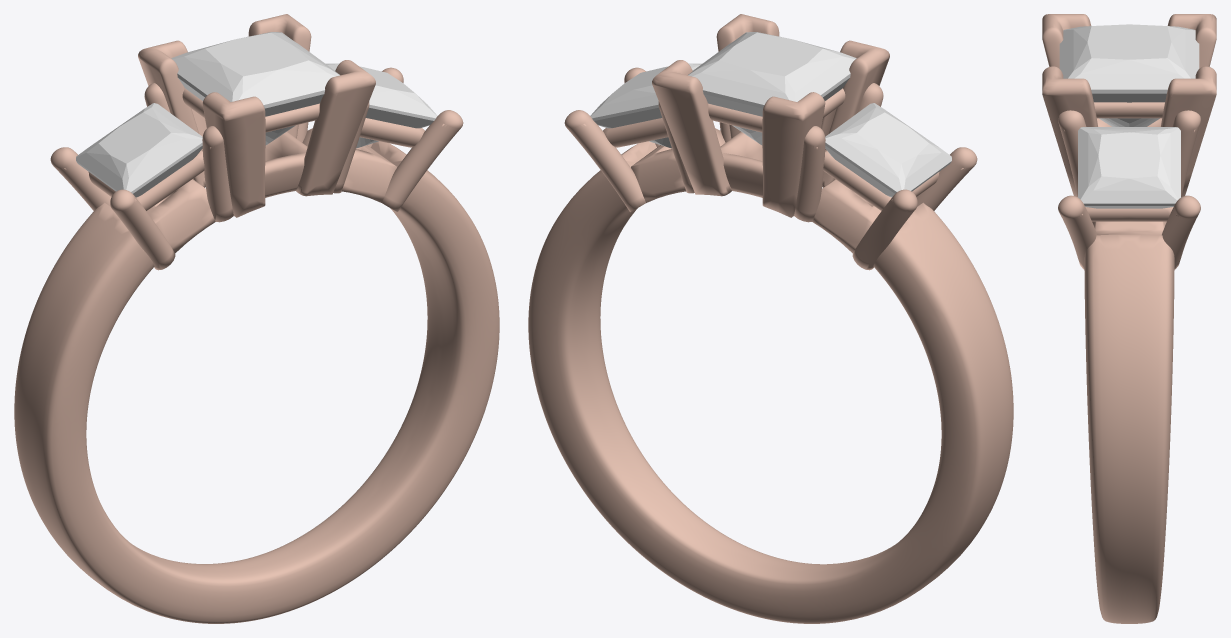
The model's file is diamond-princess-rosegold-protectededges4prongs-straighttaperedband-3stone.glb.
3 renders of one model, left to right at view 1: azimuth 30°, elevation 25°; view 2: azimuth 150°, elevation 25°; view 3: azimuth 270°, elevation 25°, orthographic.
Visible parts, largest first — view 1: metal, stone, side.001, side; view 2: metal, stone, side.001, side; view 3: metal, stone, side.
Part boxes in pixels (bbox=[...]): metal: bbox=[14, 14, 499, 623]; stone: bbox=[171, 32, 339, 145]; side.001: bbox=[76, 103, 202, 197]; side: bbox=[326, 63, 437, 148]; metal: bbox=[528, 14, 1013, 623]; stone: bbox=[688, 32, 856, 145]; side.001: bbox=[825, 103, 951, 197]; side: bbox=[590, 63, 701, 148]; metal: bbox=[1042, 14, 1216, 623]; stone: bbox=[1059, 24, 1199, 126]; side: bbox=[1078, 127, 1180, 208].
Bounding box in the file's own units: 20.51 × 23.86 × 6.77.
